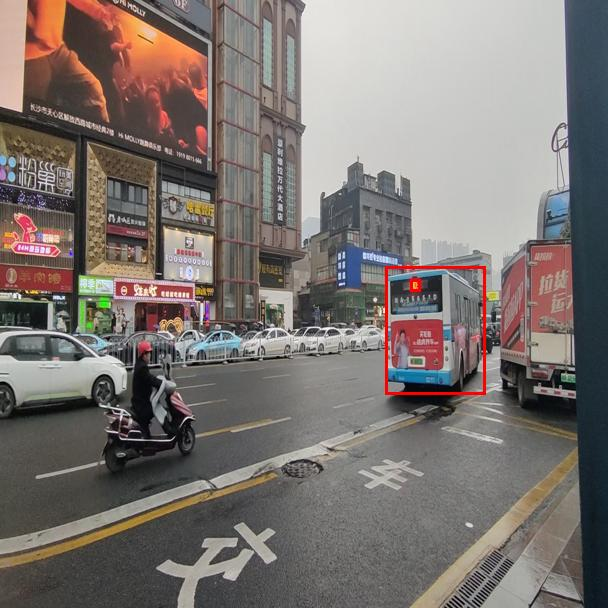bus: (385, 266, 485, 394)
screen: (410, 279, 420, 291)
